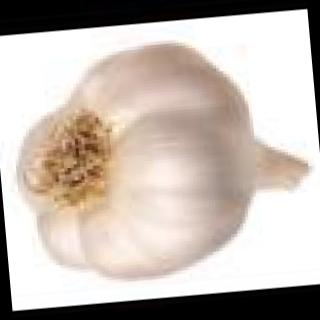Bawang Putih: (1, 28, 315, 293)
